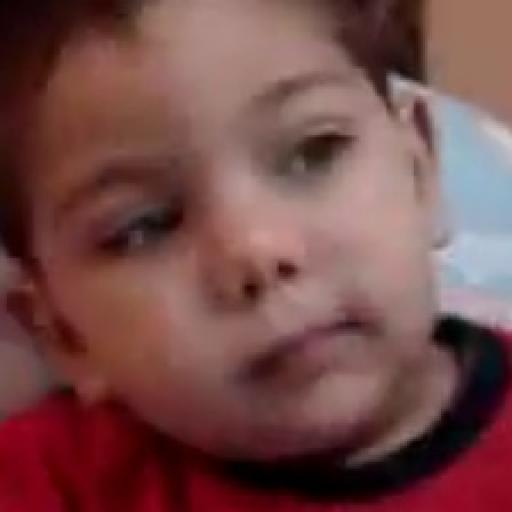Autism: (31, 35, 489, 462)
